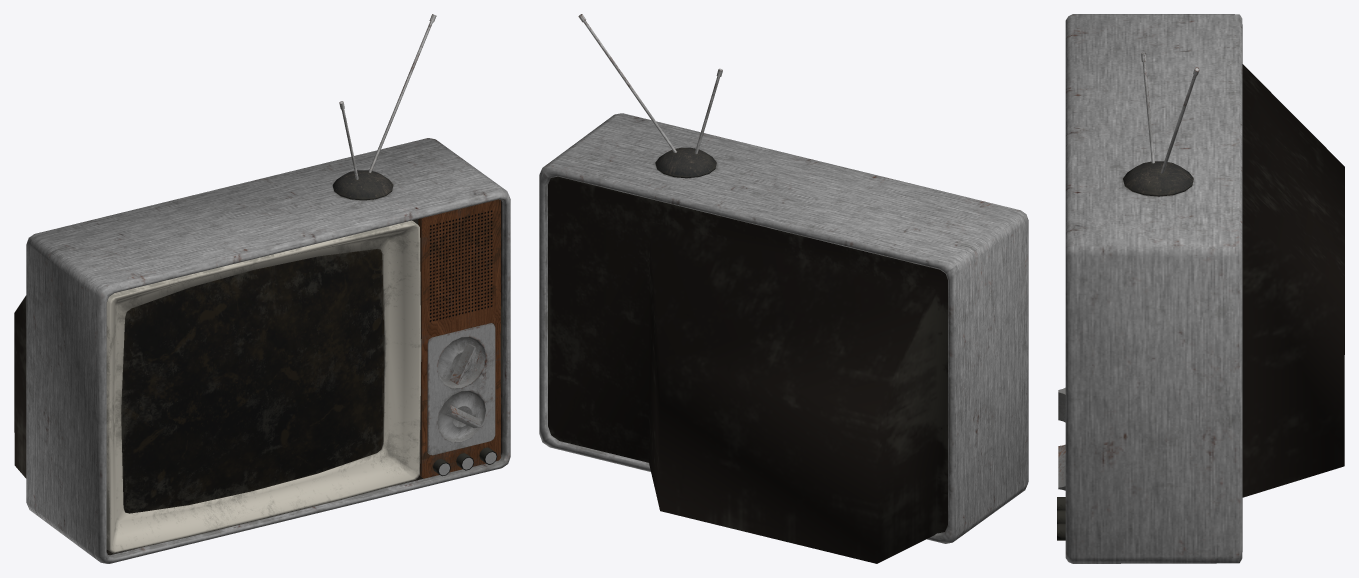
Rendered from tv_embeddedtextures.fbx.
The picture shows the model from 3 angles, left to right: view 1: azimuth 30°, elevation 25°; view 2: azimuth 150°, elevation 25°; view 3: azimuth 270°, elevation 25°; orthographic projection. The views are drawn at different scales.
Visible parts, largest first — view 1: Plane.002, Plane.008, Plane, Plane.010, Plane.003, Cone, Plane.004, Plane.001; view 2: Plane.004, Plane.002, Cone; view 3: Plane.002, Plane.004, Cone.
Part boxes in pixels (box(x1,y1,x2,y2)): Plane.002: box(26, 138, 510, 563); Plane.008: box(121, 249, 384, 513); Plane: box(106, 220, 421, 553); Plane.010: box(418, 199, 500, 478); Plane.003: box(427, 323, 495, 455); Cone: box(332, 14, 436, 200); Plane.004: box(14, 295, 26, 478); Plane.001: box(106, 200, 502, 555); Plane.004: box(548, 176, 947, 563); Plane.002: box(539, 113, 1028, 543); Cone: box(578, 14, 722, 178); Plane.002: box(1065, 14, 1242, 563); Plane.004: box(1242, 64, 1344, 497); Cone: box(1123, 52, 1199, 196).
Bounding box in the file's own units: 355 × 344 × 184.
1 material, 1 textured.
